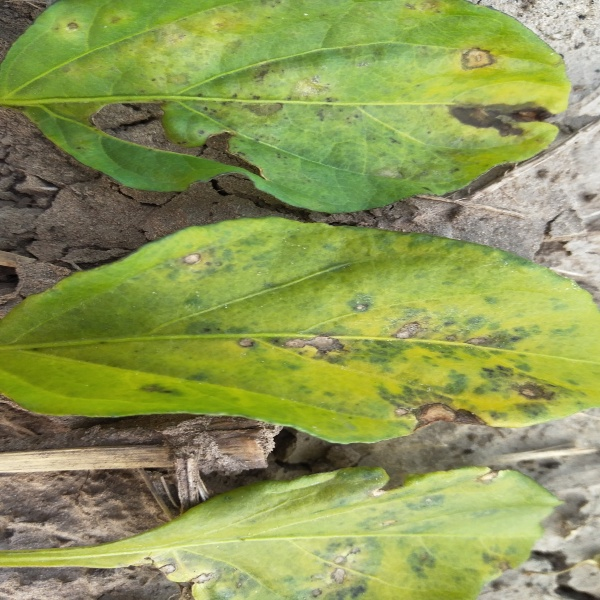Anthrax: (235, 300, 562, 429), (311, 466, 512, 600), (189, 63, 402, 156), (439, 43, 562, 144), (161, 236, 223, 283), (58, 13, 125, 44), (158, 559, 218, 589)
